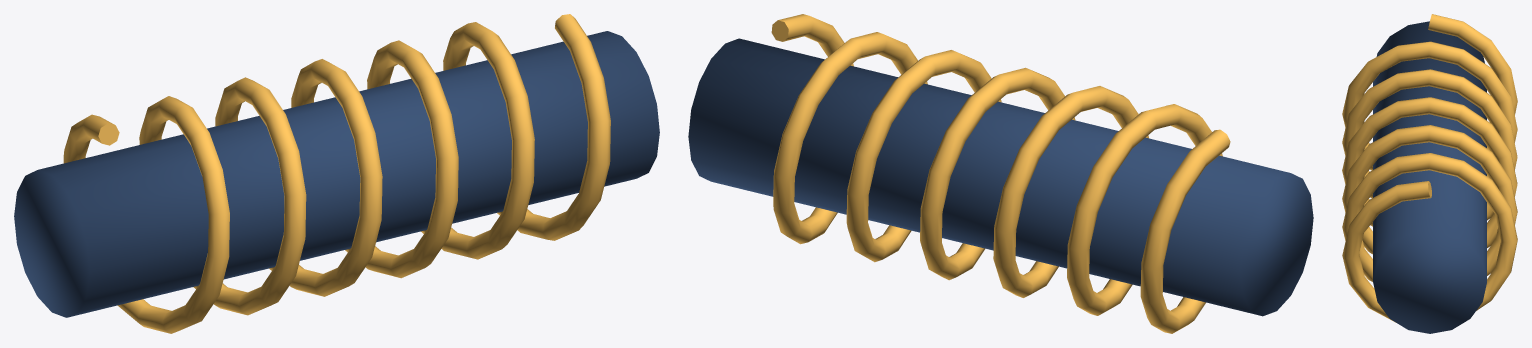
File: solenoid-lite.glb
3 views of the same model, side by side, from view 1: azimuth 30°, elevation 25°; view 2: azimuth 150°, elevation 25°; view 3: azimuth 270°, elevation 25° (orthographic). The views are drawn at different scales.
Parts seen in each view (by area): view 1: Core; view 2: Core; view 3: Core.
Part boxes in pixels (left/top/right/bottom): Core: left=14, top=14, right=659, bottom=333; Core: left=688, top=14, right=1313, bottom=333; Core: left=1342, top=14, right=1517, bottom=333.
Size of the model in its own units: 2 by 0.7099 by 0.7092.
